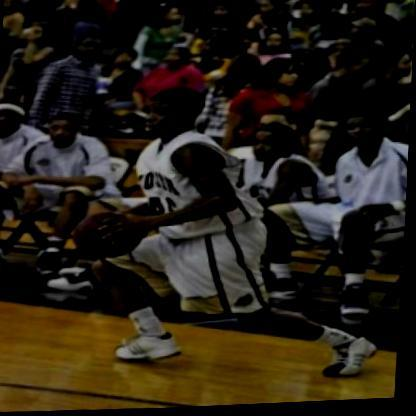basketball: (75, 210, 138, 265)
